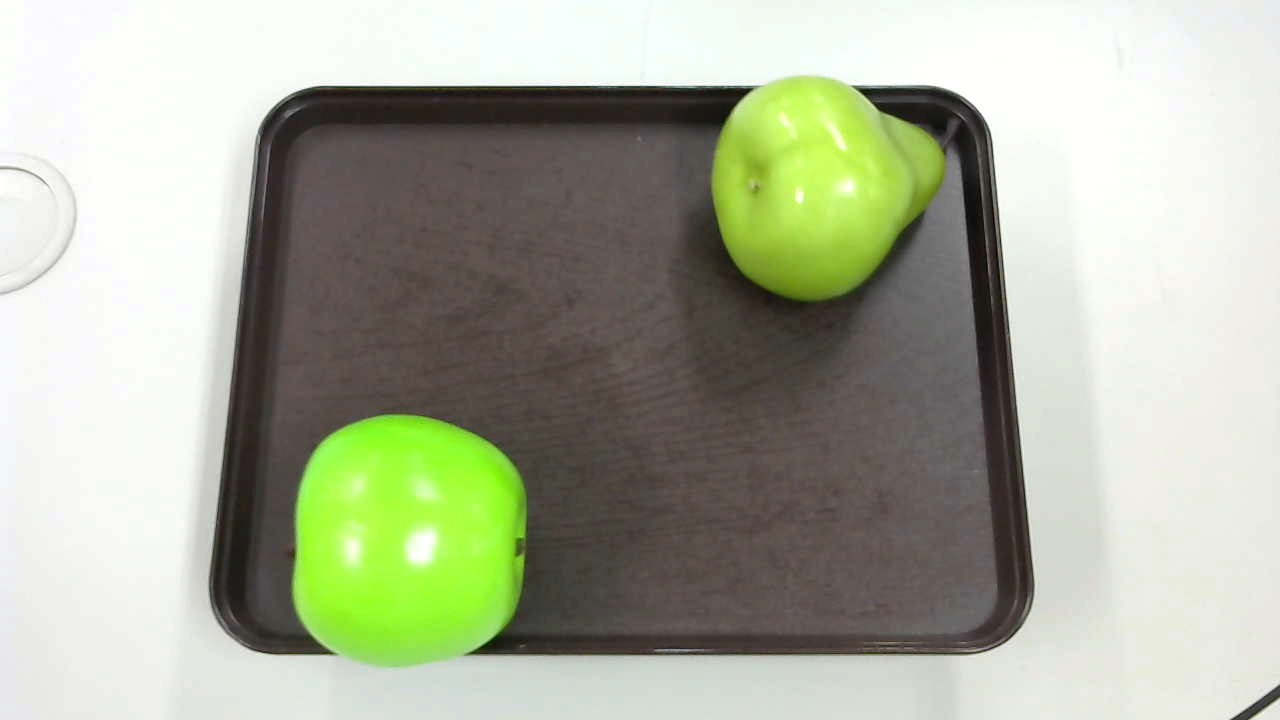green apple: (280, 414, 528, 665)
green pear: (705, 72, 975, 305)
